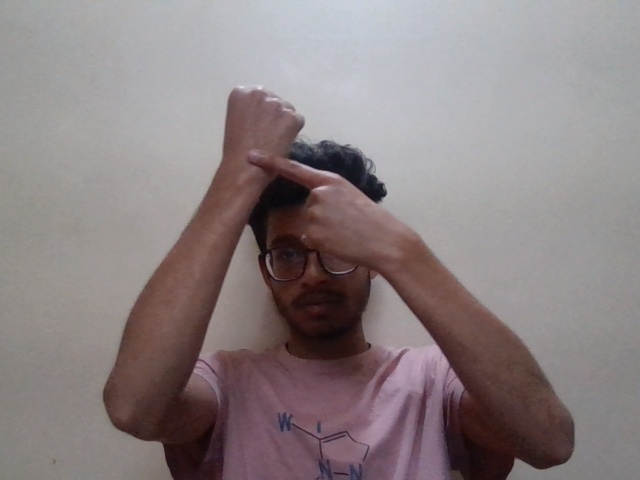time: (204, 57, 382, 268)
